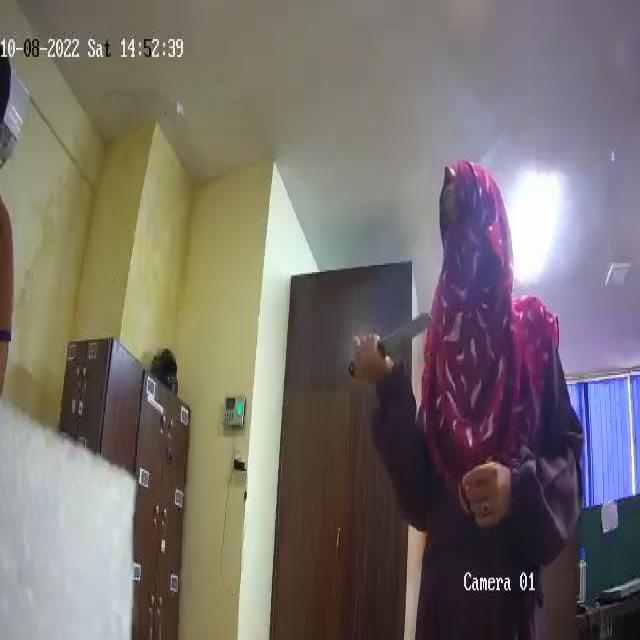Knife: (344, 309, 434, 386)
